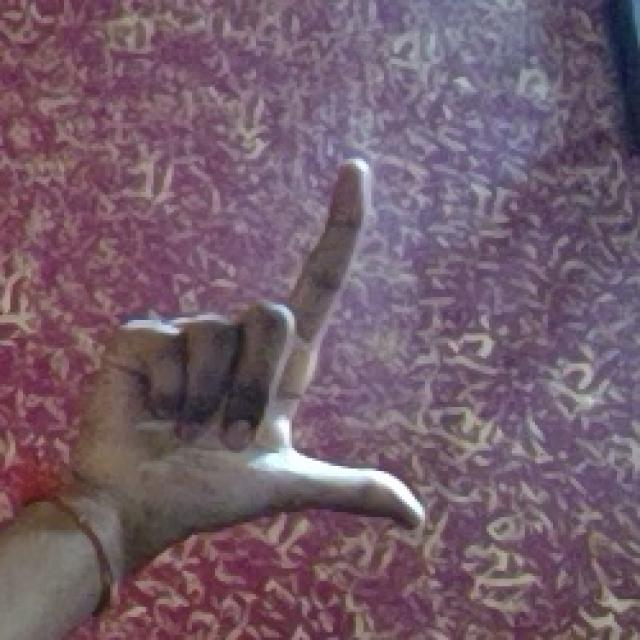Alphabet-L: (88, 110, 481, 562)
